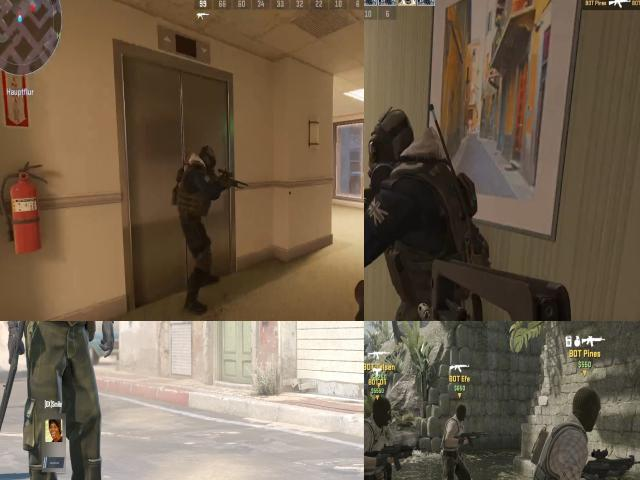CT: (364, 90, 453, 296), (173, 134, 220, 246)
CT-Head: (364, 102, 427, 193), (186, 146, 216, 168)
T: (12, 321, 103, 480), (527, 382, 605, 480), (364, 398, 403, 480), (442, 400, 472, 480)
T-Head: (572, 383, 604, 431), (371, 394, 392, 426), (453, 402, 468, 422)
